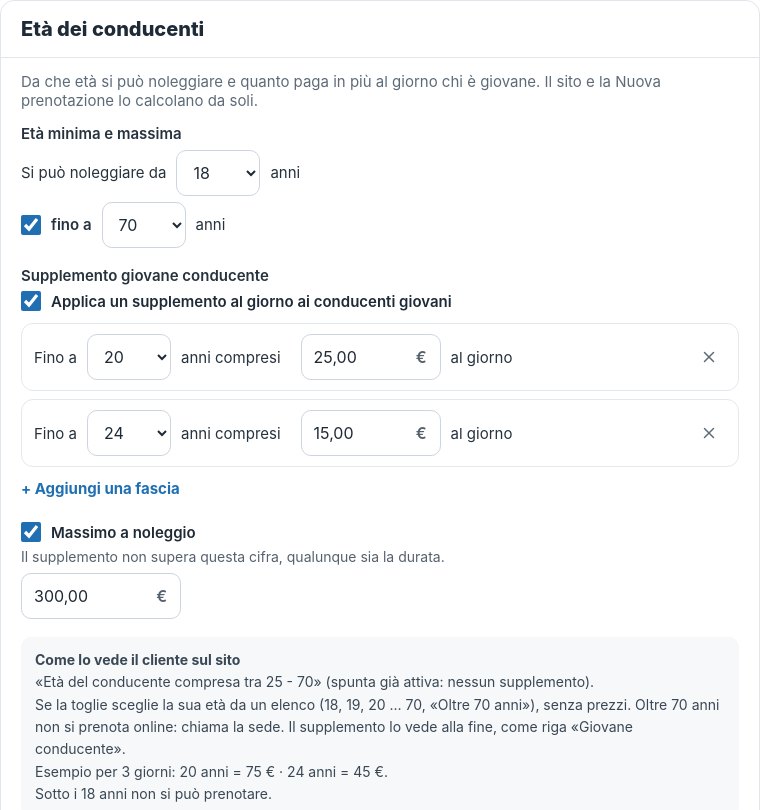
spegnere il supplemento nasconde le fasce
Step 1. Click the checkbox labelled "Applica un supplemento al giorno ai conducenti giovani" → (31, 301), box [21,291,41,311]
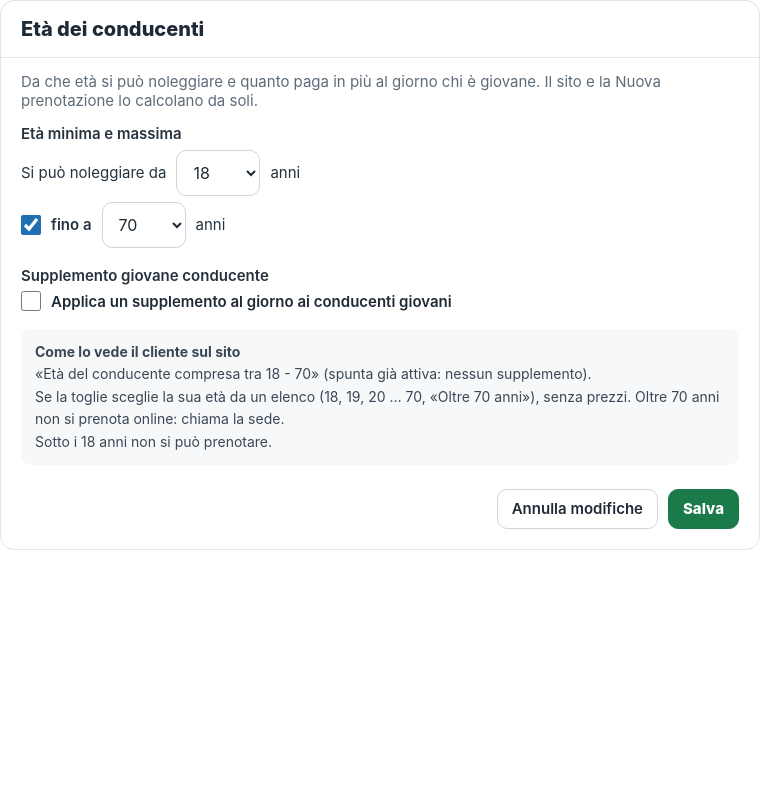
Expected: the button "+ Aggiungi una fascia" is gone
Expected: the text "«Età del conducente compresa tra 18 - 70»" is shown, [21,329,739,465]
Expected: the button "Salva" is enabled, [668,489,739,529]
